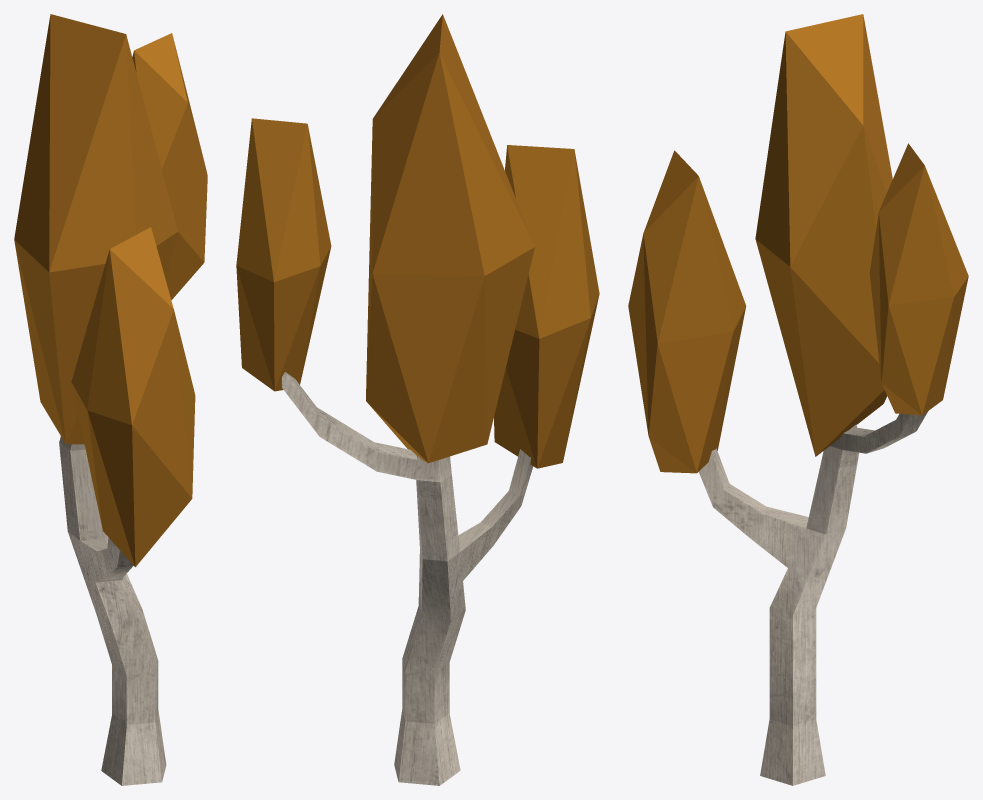
File: CampTree2.fbx
The picture shows the model from 3 angles, left to right: view 1: azimuth 30°, elevation 25°; view 2: azimuth 150°, elevation 25°; view 3: azimuth 270°, elevation 25°; orthographic projection. The views are drawn at different scales.
Visible parts, largest first — view 1: CampTree2; view 2: CampTree2; view 3: CampTree2.
Boxes of the visible parts, <box> form: CampTree2: <box>14,14,207,785</box>; CampTree2: <box>236,14,599,785</box>; CampTree2: <box>628,14,968,785</box>.
Size of the model in its own units: 10.48 by 32.99 by 13.88.
